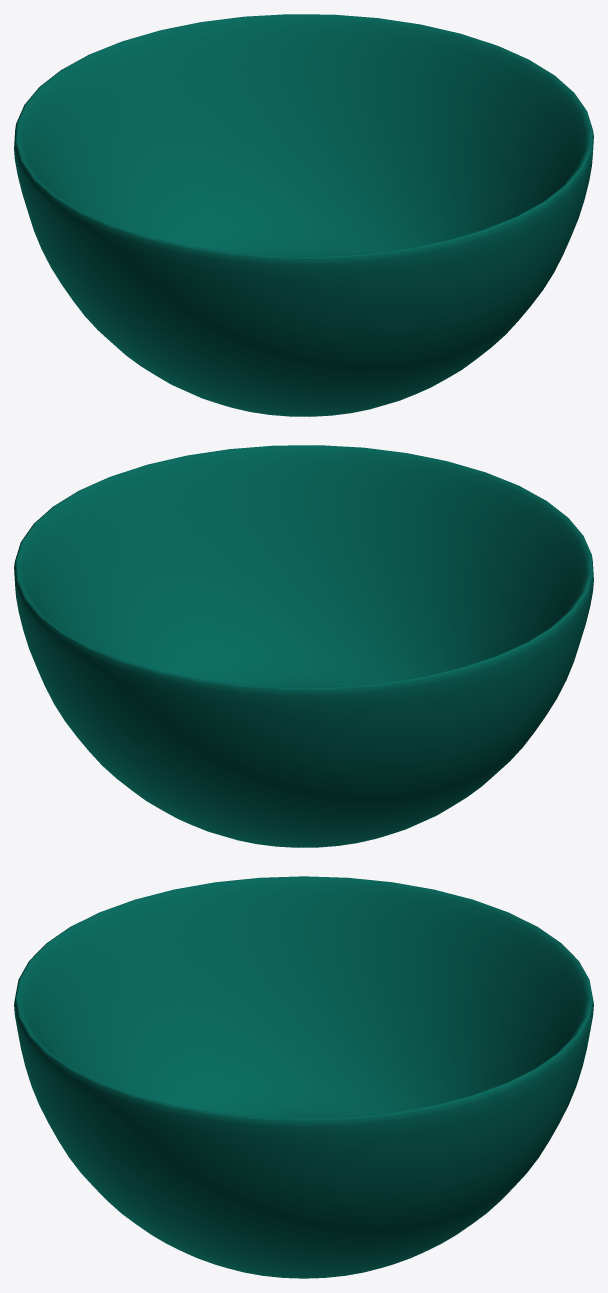
File: Bowl_Single.fbx
The picture shows the model from 3 angles, top to bottom: view 1: azimuth 30°, elevation 25°; view 2: azimuth 150°, elevation 25°; view 3: azimuth 270°, elevation 25°; orthographic projection.
Visible parts, largest first — view 1: pSphere5; view 2: pSphere5; view 3: pSphere5.
Part boxes in pixels (left/top/right/bottom): pSphere5: left=14, top=14, right=593, bottom=416; pSphere5: left=14, top=445, right=593, bottom=847; pSphere5: left=14, top=876, right=593, bottom=1278.
Size of the model in its own units: 1.97 by 0.9561 by 1.97.
